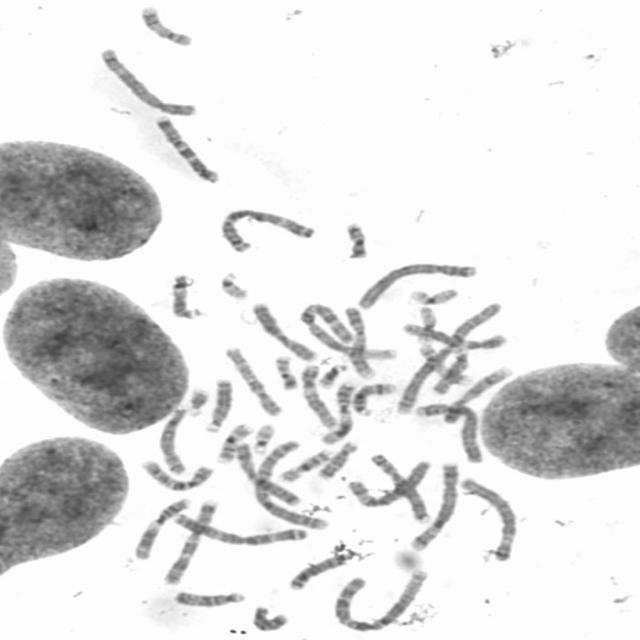A1: (331, 568, 429, 634), (298, 302, 397, 360)
A2: (393, 301, 504, 416), (250, 439, 331, 531)
A3: (168, 510, 309, 548), (212, 207, 320, 256)
B4: (356, 262, 479, 311), (412, 402, 488, 464)
B5: (98, 48, 196, 117), (409, 461, 459, 552)
C10: (224, 347, 283, 417), (140, 458, 215, 492)
C11: (133, 496, 190, 560), (318, 382, 358, 446)
C12: (402, 322, 508, 349), (300, 364, 339, 432)
C6: (460, 475, 520, 564), (346, 459, 430, 509)
C7: (161, 499, 218, 586), (154, 114, 223, 182)
C8: (370, 452, 432, 524), (156, 405, 192, 475)
C9: (439, 366, 516, 426), (339, 306, 377, 379)
D13: (286, 548, 356, 591), (204, 378, 231, 433)
D14: (167, 274, 207, 320), (350, 381, 399, 418)
D15: (429, 346, 469, 396), (173, 590, 246, 608)
E16: (277, 448, 333, 482), (215, 423, 252, 465)
E17: (417, 344, 475, 385), (139, 5, 194, 48)
E18: (316, 439, 360, 482), (250, 605, 290, 633)
F19: (407, 288, 461, 306), (416, 304, 439, 346)
F20: (341, 222, 372, 262), (273, 355, 299, 391)
G21: (316, 363, 351, 390), (186, 387, 210, 417)
G22: (218, 271, 250, 301), (252, 423, 274, 456)
X: (251, 302, 317, 362)
